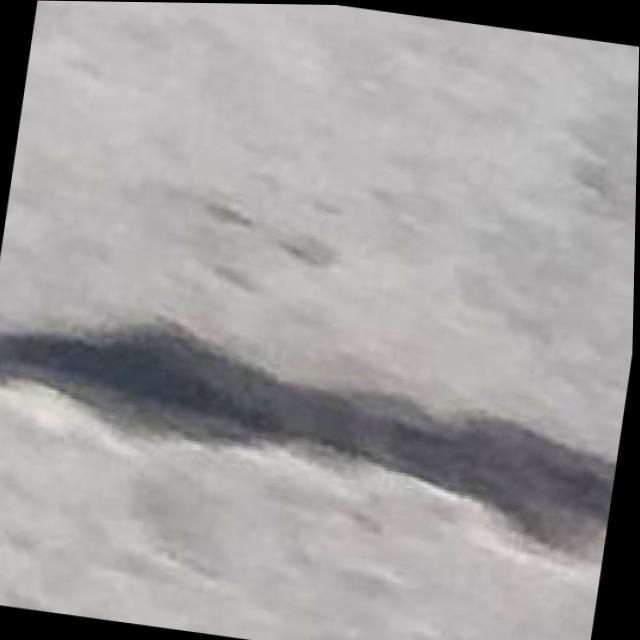Crack: (0, 277, 633, 569)
